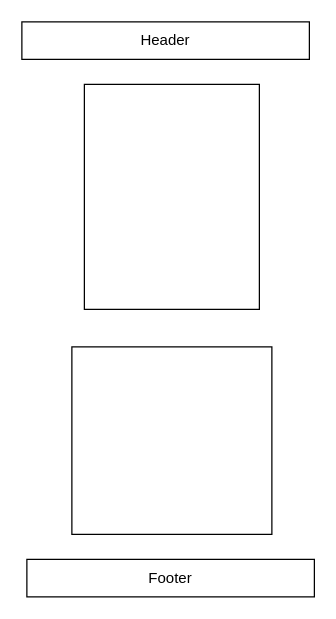
This 336x619 diagram has some shape labels left out. Each missing label, with the box of its shape:
Filters: (83, 83, 259, 309)
Item: (71, 346, 272, 534)
